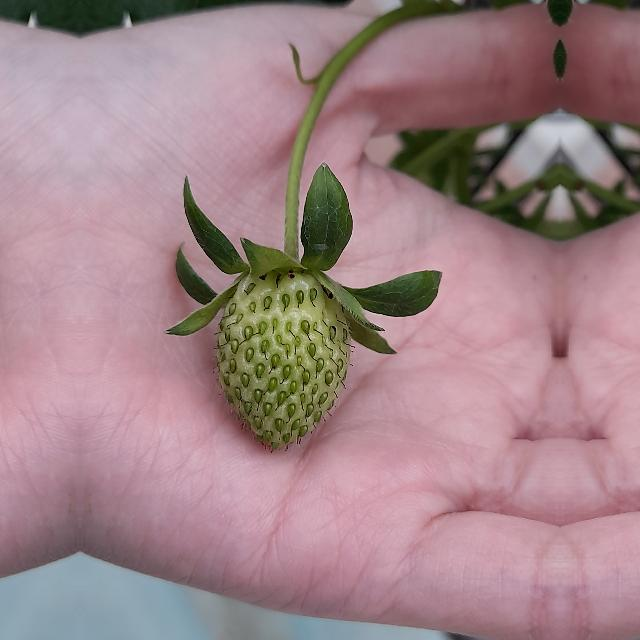Health_25: (215, 269, 351, 449)
